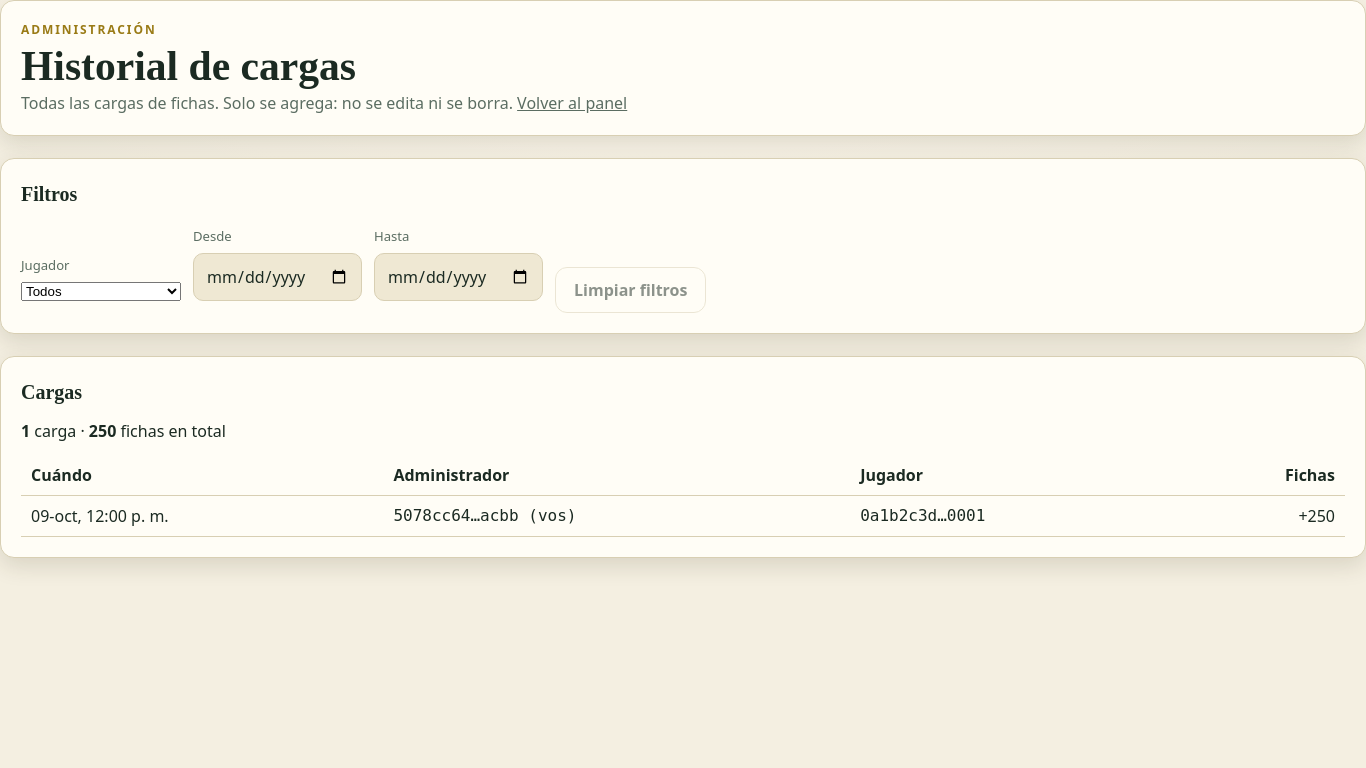
AdminCredits › does not ask the server for a backwards range and explains why
The image size is (1366, 768).
Check: the table named "Cargas de fichas" is shown, box [21,454,1345,536]
Type "2026-10-09" into the date field labelled "Desde". click: (278, 276)
box: [193,252,362,300]
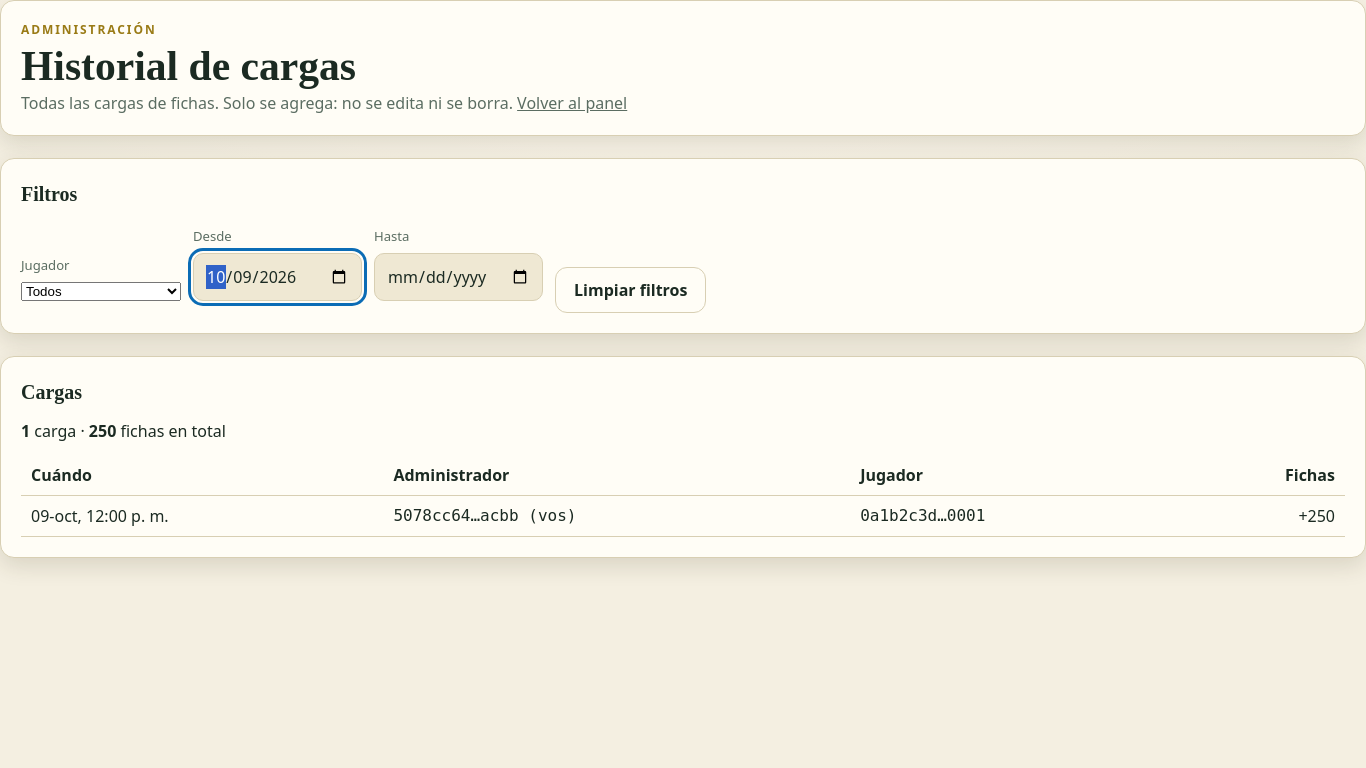
Type "2026-10-01" into the date field labelled "Hasta". click: (458, 276)
box: [374,252,543,300]
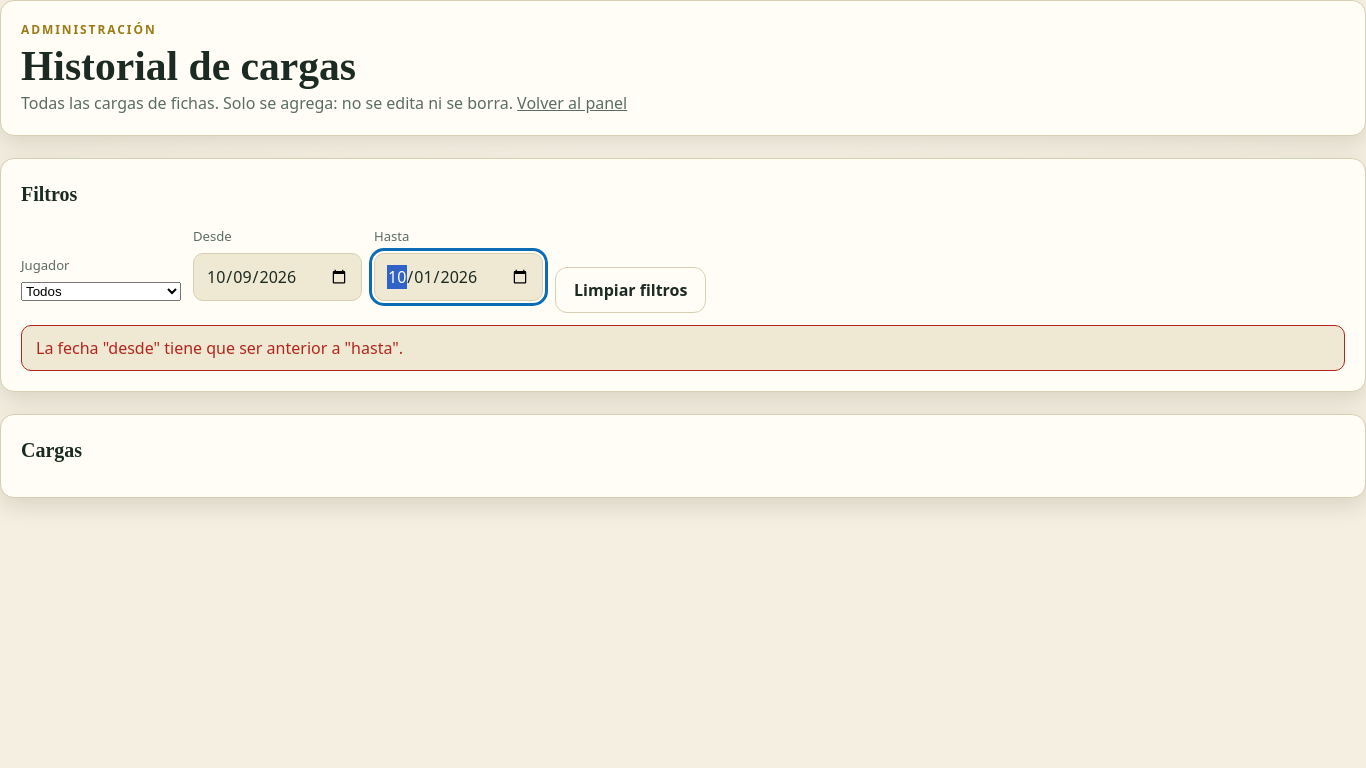
Check: the text "La fecha \"desde\" tiene que ser anterior a \"hasta\"." is shown, box [21,324,1345,370]
